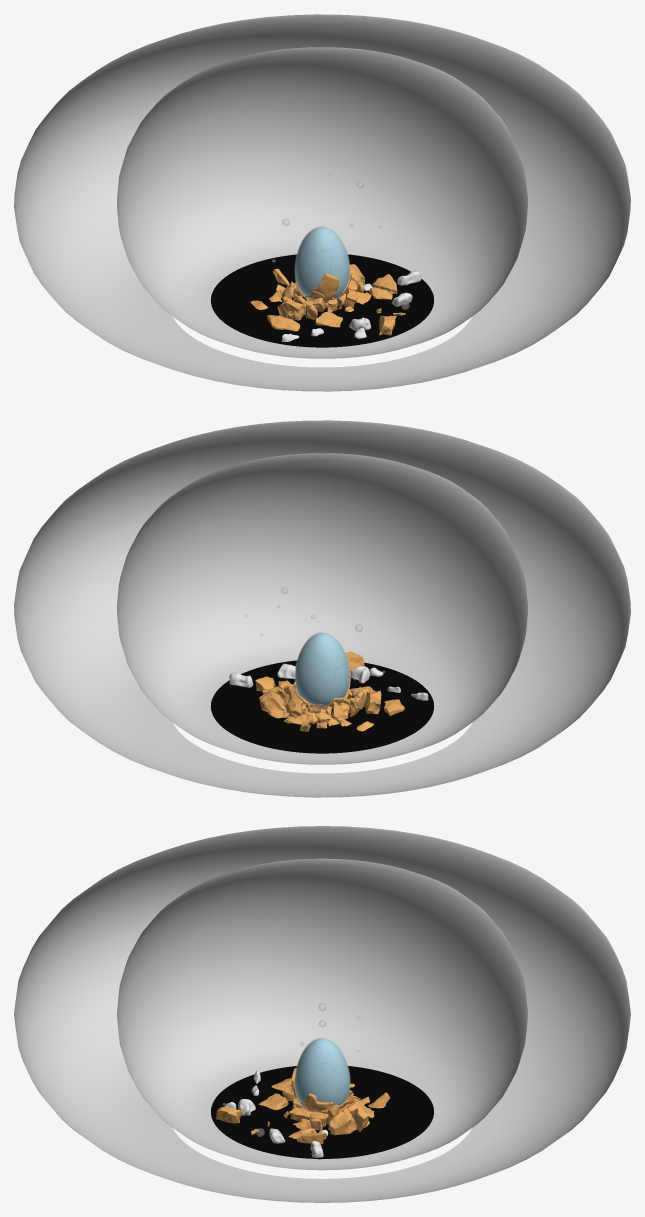
File: PXLs_egg176.glb
3 views of the same model, one above another, from view 1: azimuth 30°, elevation 25°; view 2: azimuth 150°, elevation 25°; view 3: azimuth 270°, elevation 25° (orthographic).
Visible parts, largest first — view 1: innerCylinder, outerCylinder, floorBase, rockDebris, smoke4, smoke3, crackedEgg, brokenEggCrust; view 2: innerCylinder, outerCylinder, floorBase, rockDebris, smoke4, smoke3, crackedEgg; view 3: innerCylinder, outerCylinder, floorBase, rockDebris, smoke4, smoke3, crackedEgg, brokenEggCrust.
Boxes of the visible parts, x1,y1,x2,y2 form: innerCylinder: (117,47,527,358); outerCylinder: (14,14,630,391); floorBase: (210,254,434,347); rockDebris: (267,264,397,335); smoke4: (295,226,349,302); smoke3: (295,226,349,298); crackedEgg: (295,227,349,298); brokenEggCrust: (296,270,352,303); innerCylinder: (117,453,527,764); outerCylinder: (14,420,630,797); floorBase: (210,660,434,753); rockDebris: (255,651,404,731); smoke4: (295,632,349,708); smoke3: (295,632,349,708); crackedEgg: (295,633,349,705); innerCylinder: (117,858,527,1170); outerCylinder: (14,826,630,1202); floorBase: (211,1066,433,1158); rockDebris: (215,1076,390,1143); smoke4: (295,1037,350,1109); smoke3: (295,1037,350,1104); crackedEgg: (295,1039,349,1104); brokenEggCrust: (291,1068,348,1112).
Size of the model in its own units: 20.81 by 7.51 by 20.81.
8 materials, 2 textured.
